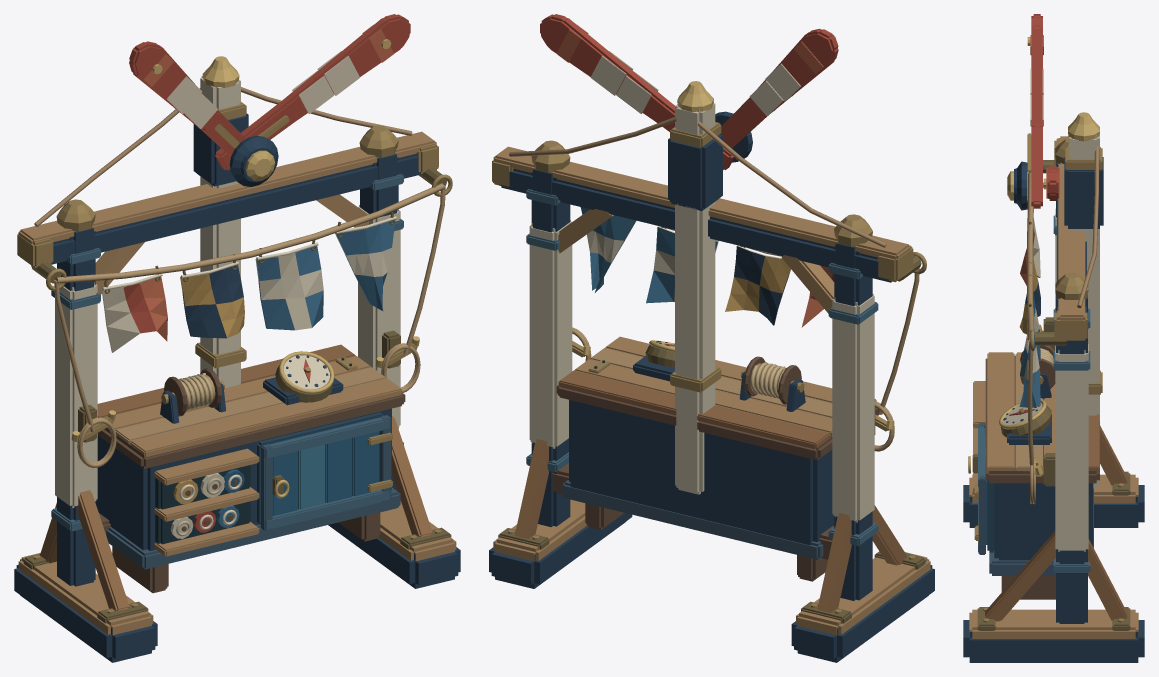
The model's file is SM_MarineSignalRack.fbx.
The picture shows the model from 3 angles, left to right: view 1: azimuth 30°, elevation 25°; view 2: azimuth 150°, elevation 25°; view 3: azimuth 270°, elevation 25°; orthographic projection. The views are drawn at different scales.
Parts seen in each view (by area): view 1: SM_MarineSignalRack; view 2: SM_MarineSignalRack; view 3: SM_MarineSignalRack.
Part boxes in pixels (box(x1,y1,x2,y2)): SM_MarineSignalRack: box(14, 14, 460, 662); SM_MarineSignalRack: box(489, 14, 934, 662); SM_MarineSignalRack: box(963, 14, 1144, 662).
Size of what is drawn, in the model's own units: 2.63 by 1.11 by 3.56.
